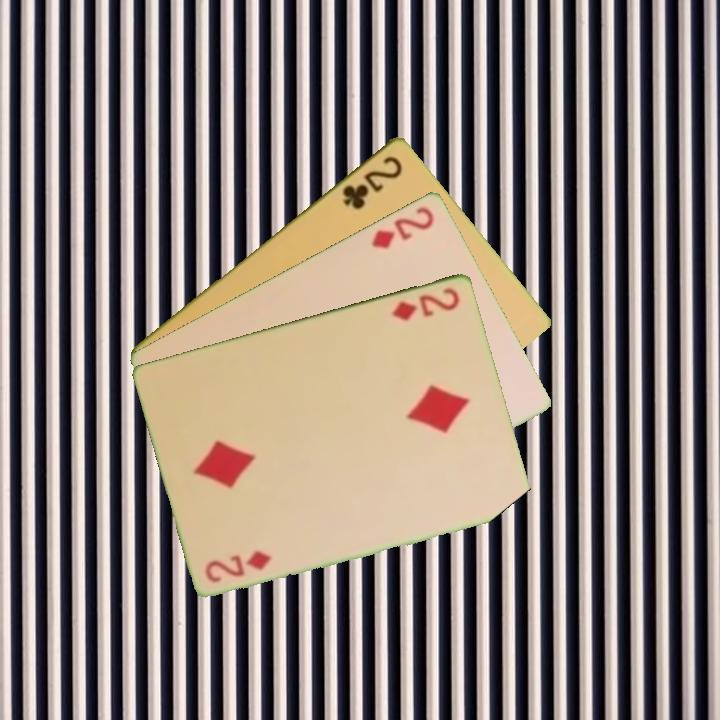2c: (338, 151, 405, 212)
2d: (368, 202, 437, 252), (388, 283, 463, 324), (201, 547, 275, 585)
